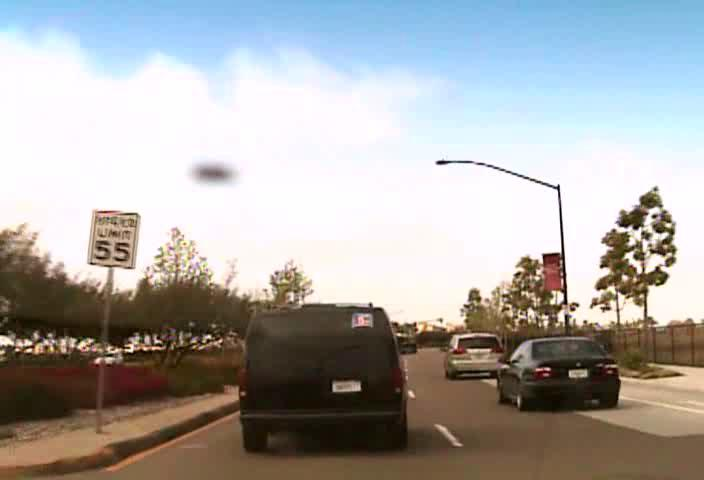speedLimit55: (86, 208, 140, 269)
